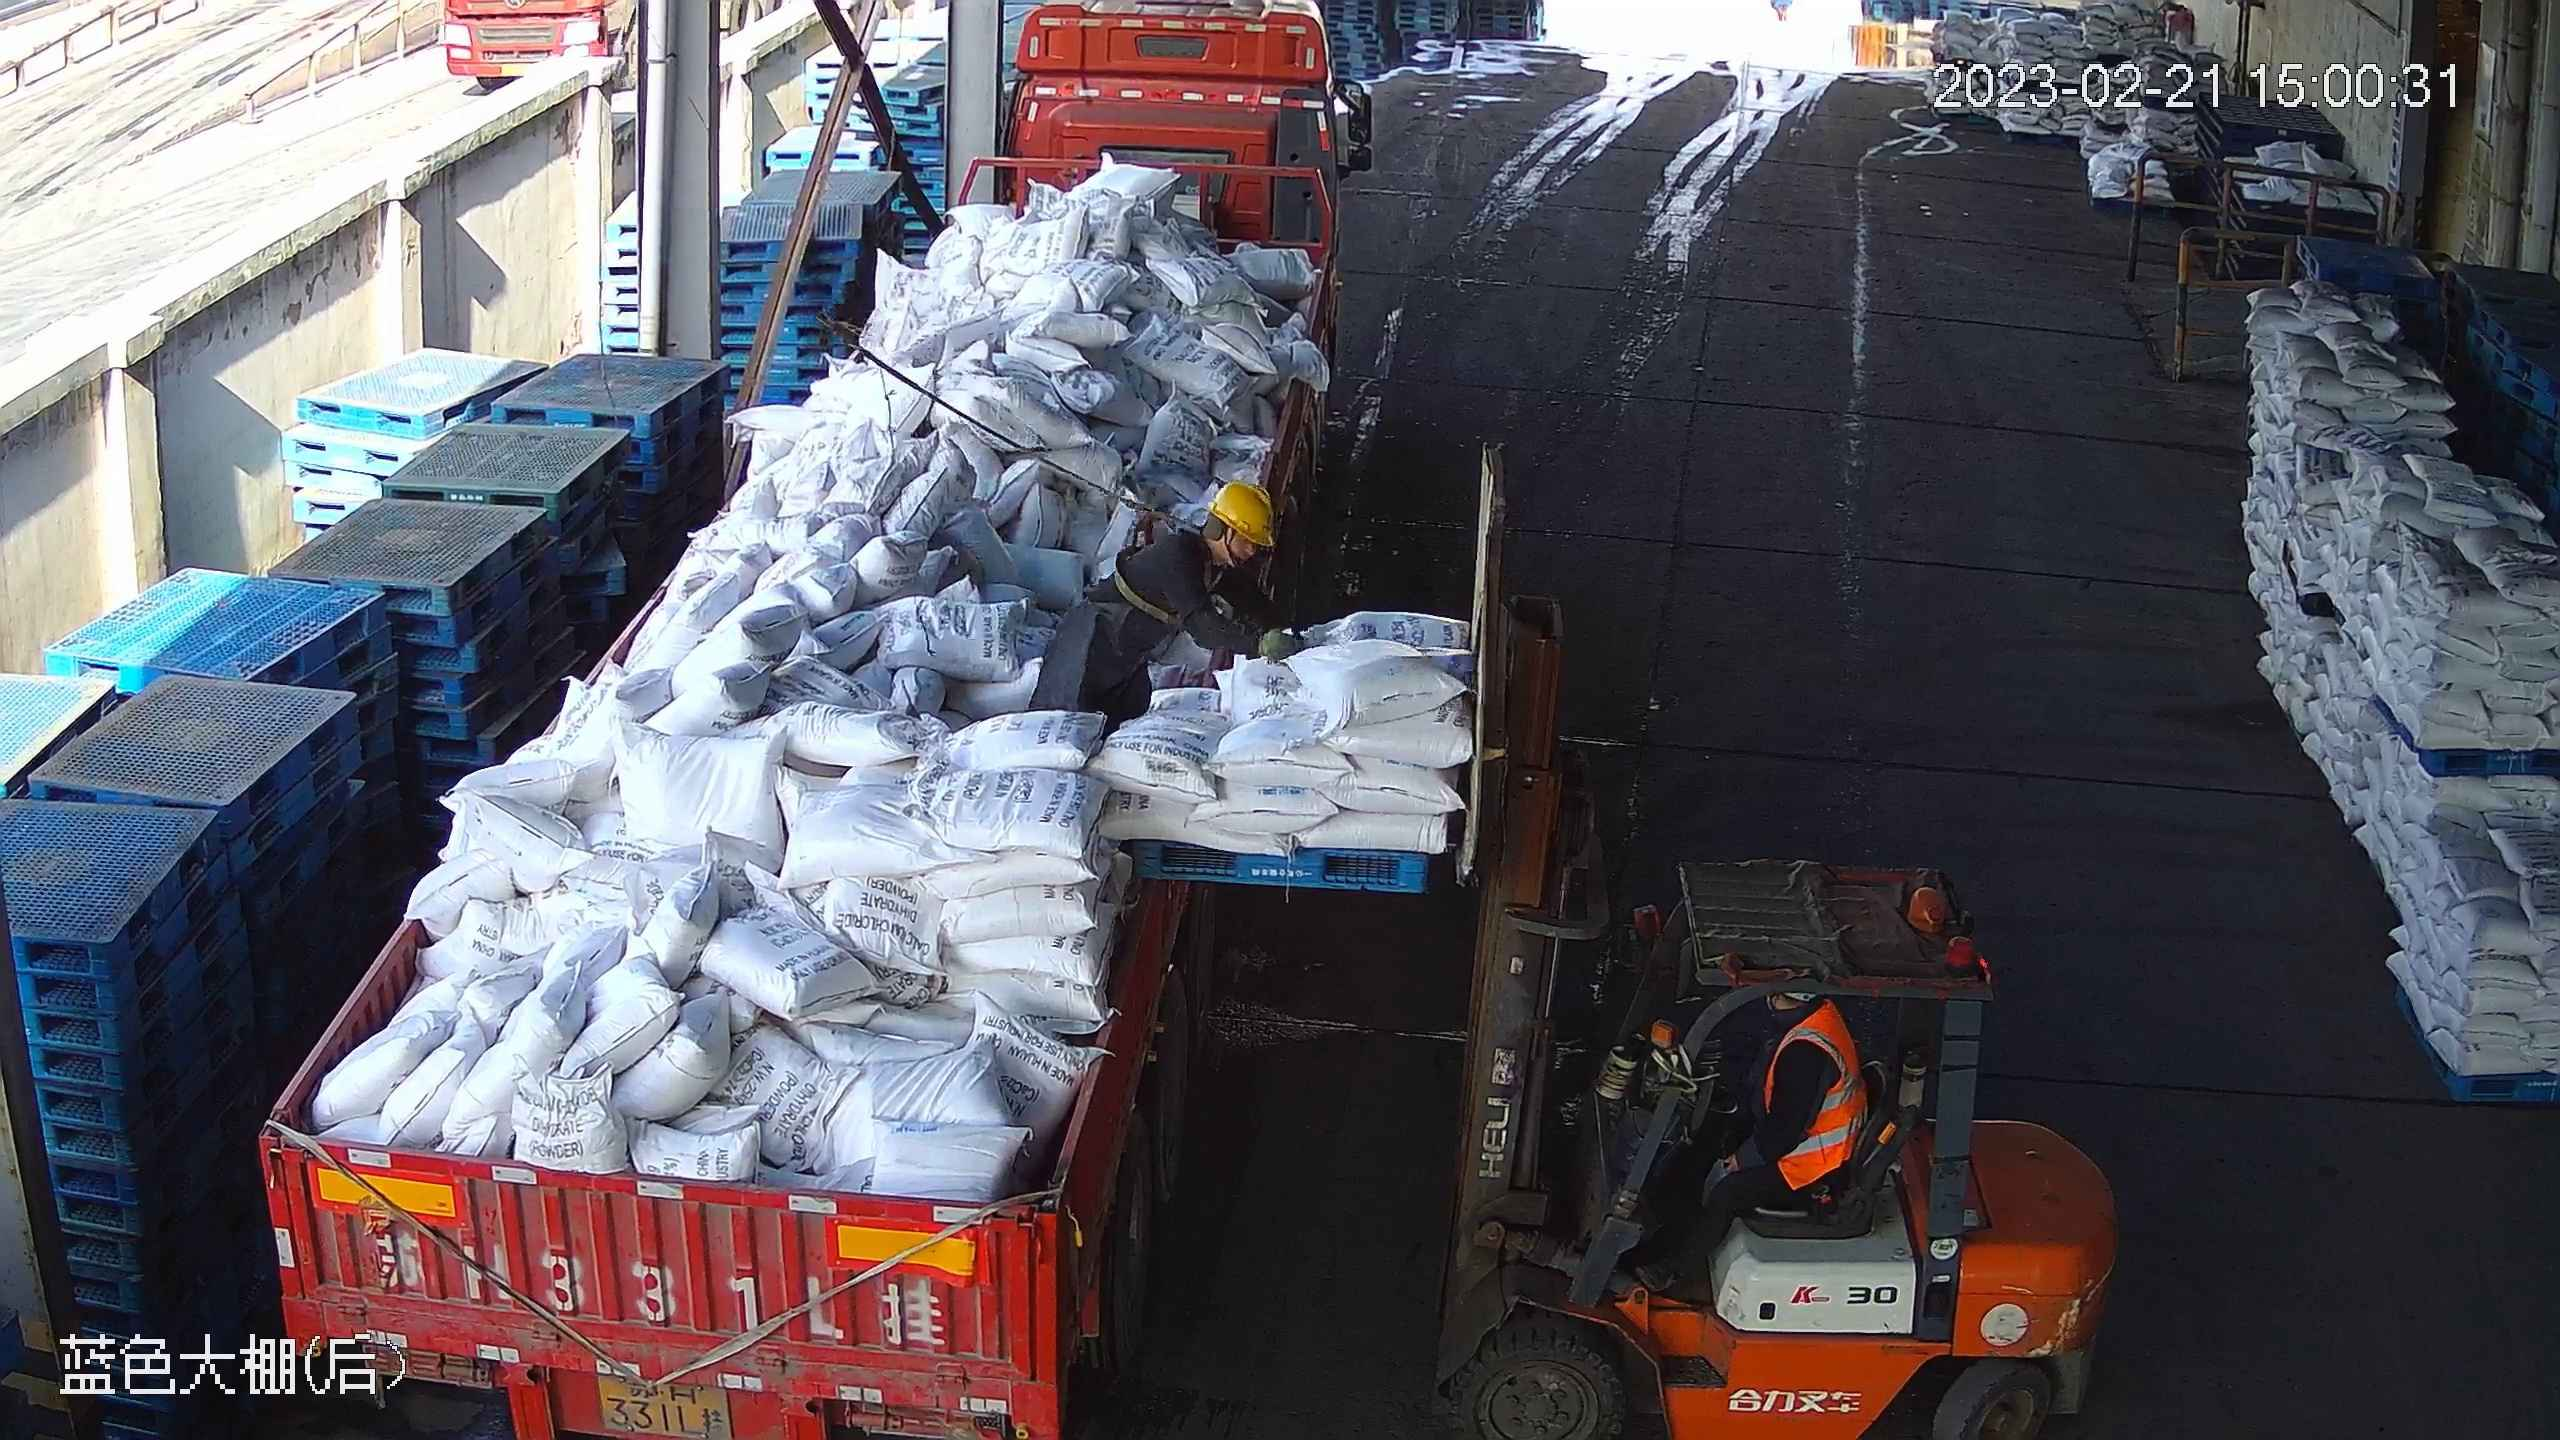belt: (1107, 490, 1215, 623)
head: (1136, 480, 1280, 627)
helmet: (1208, 484, 1275, 546)
people: (1630, 982, 1874, 1298), (1029, 480, 1298, 720)
truck: (249, 1, 1381, 1430), (439, 1, 791, 92)
